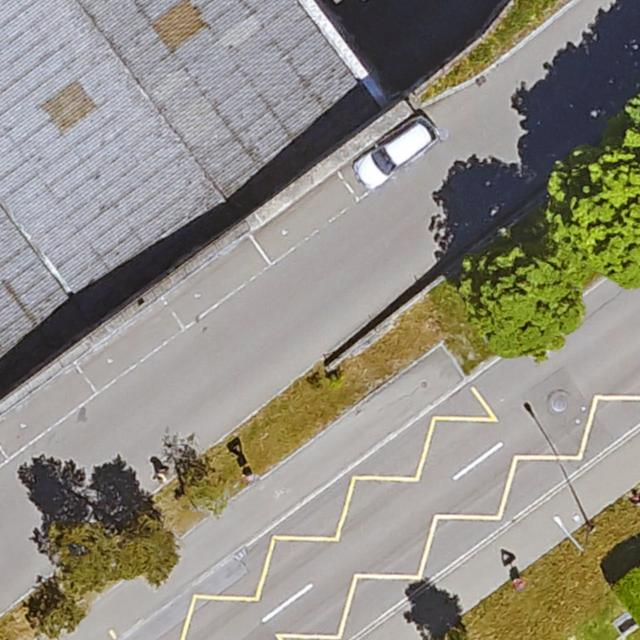tree: (545, 95, 640, 288), (464, 244, 582, 359), (44, 514, 181, 598)
